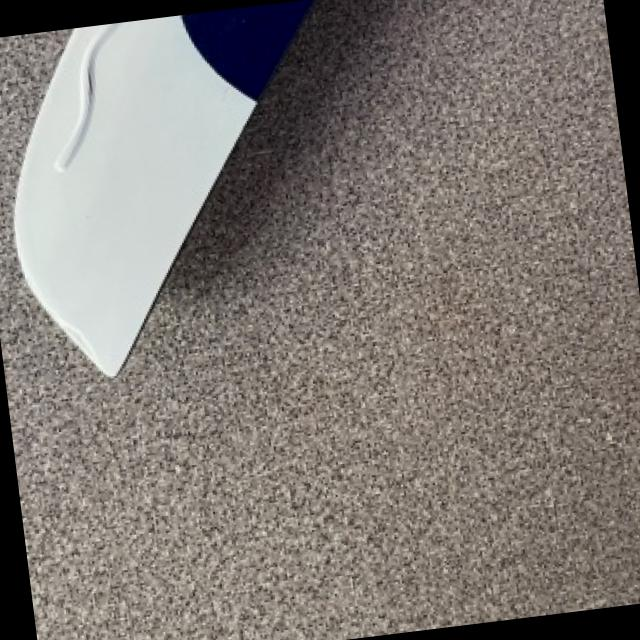healthy: (11, 0, 304, 371)
